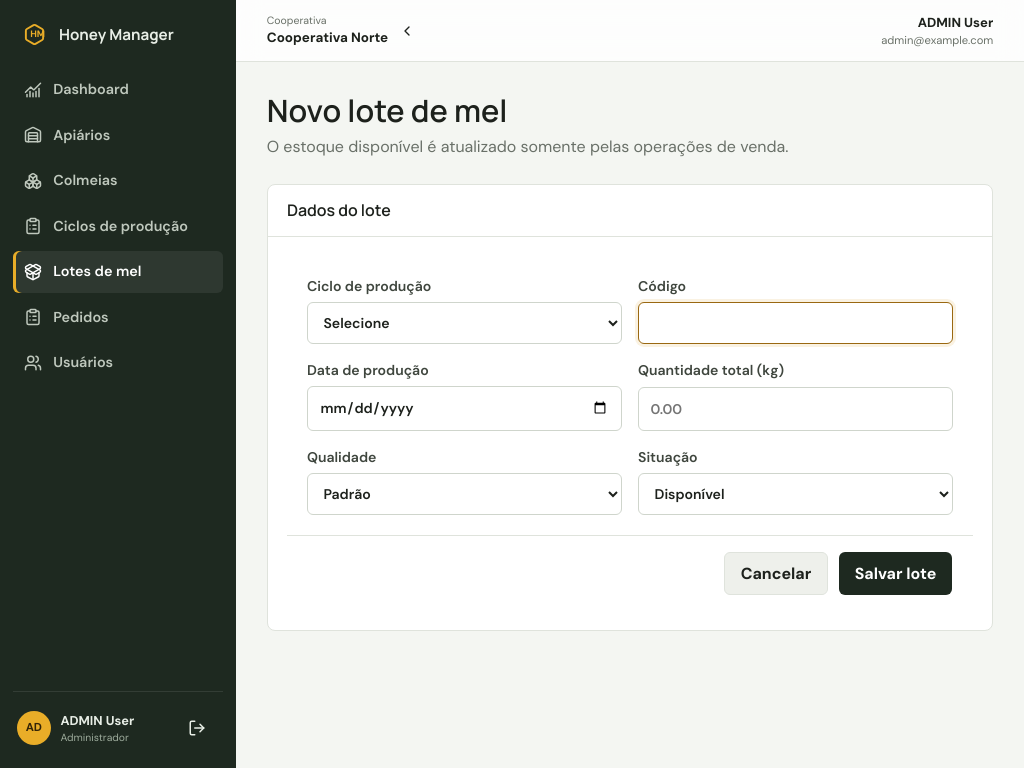
Test: Honey Batch management › presents backend 409 code conflicts visibly
The width and height of the screenshot is (1024, 768).
Select "01/09/2026 · Ativo" in the dropdown labelled "Ciclo de produção" at (464, 323), box [307, 302, 622, 344]
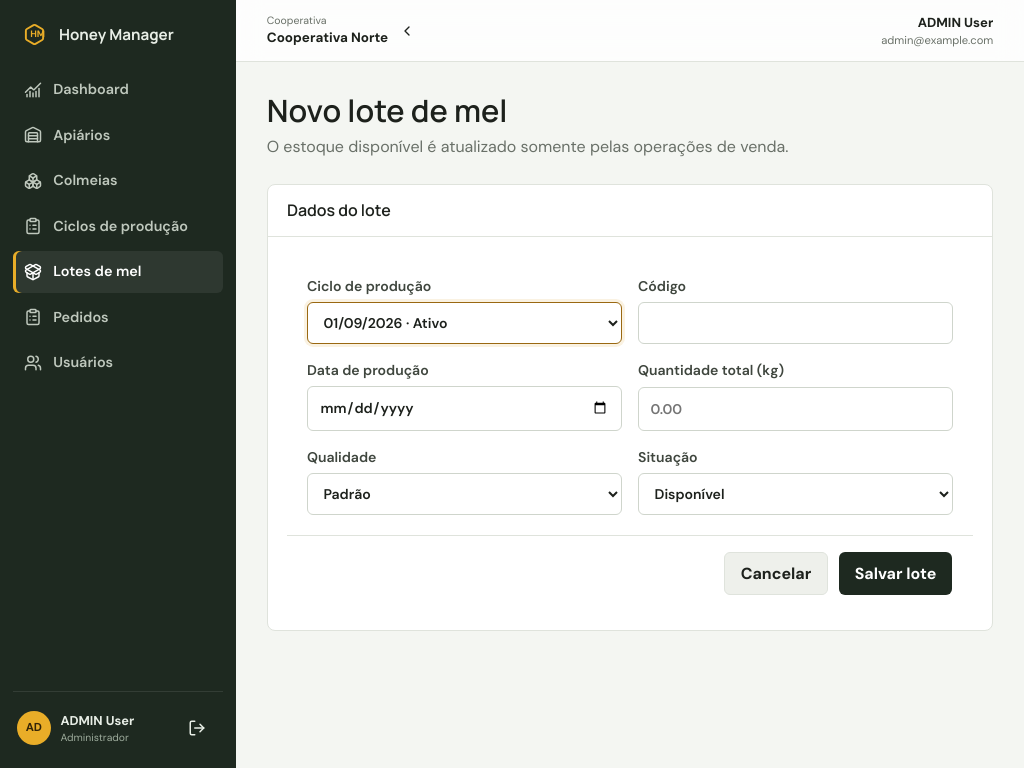
Type "LOTE-001" into the field labelled "Código" at (796, 323), box [638, 302, 953, 344]
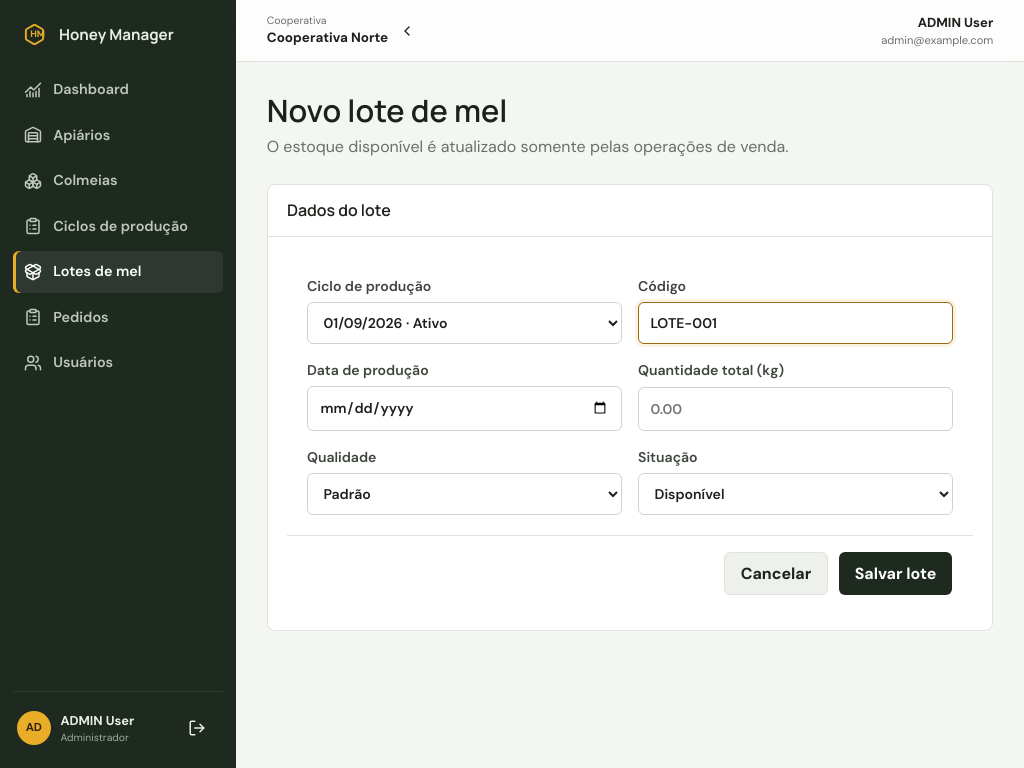
Type "2026-09-02" into the date field labelled "Data de produção" at (464, 408), box [307, 386, 622, 430]
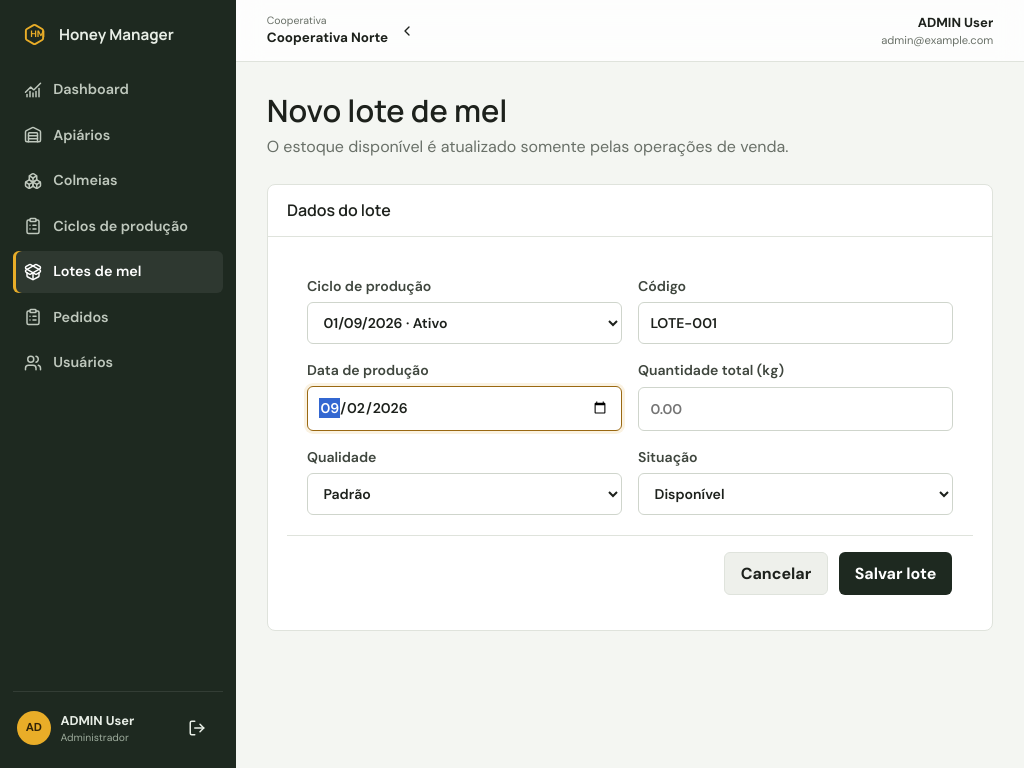
Type "100.50" into the field labelled "Quantidade total (kg)" at (796, 409), box [638, 387, 953, 430]
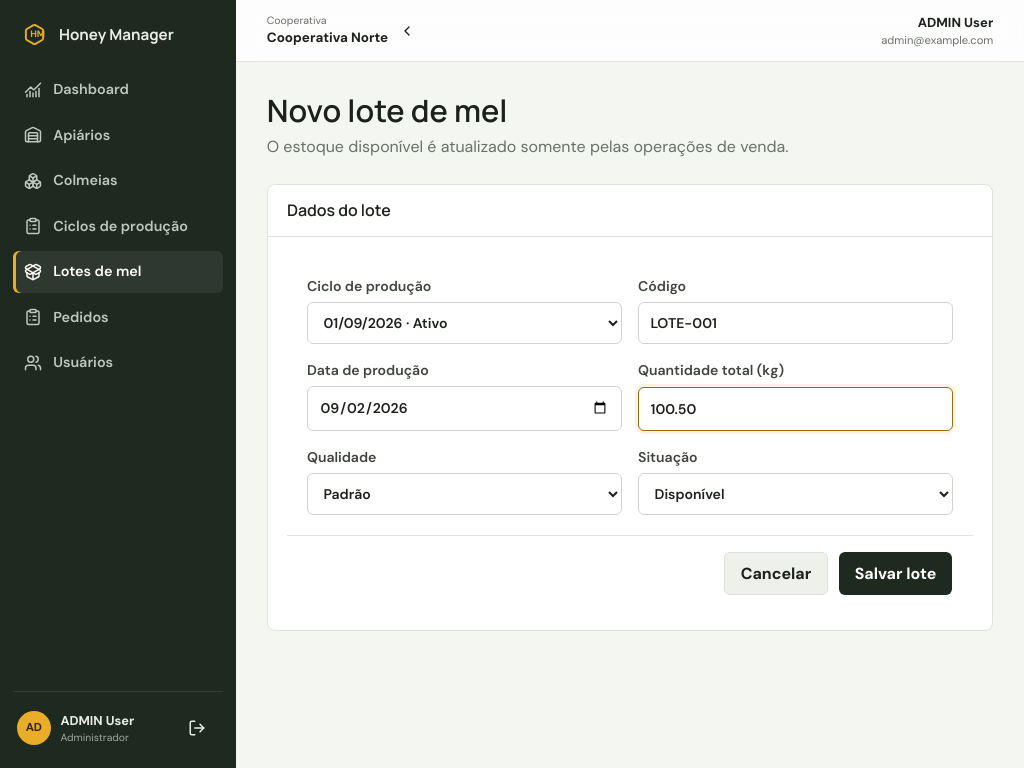
Click the button "Salvar lote" at (896, 573), box [839, 552, 952, 595]
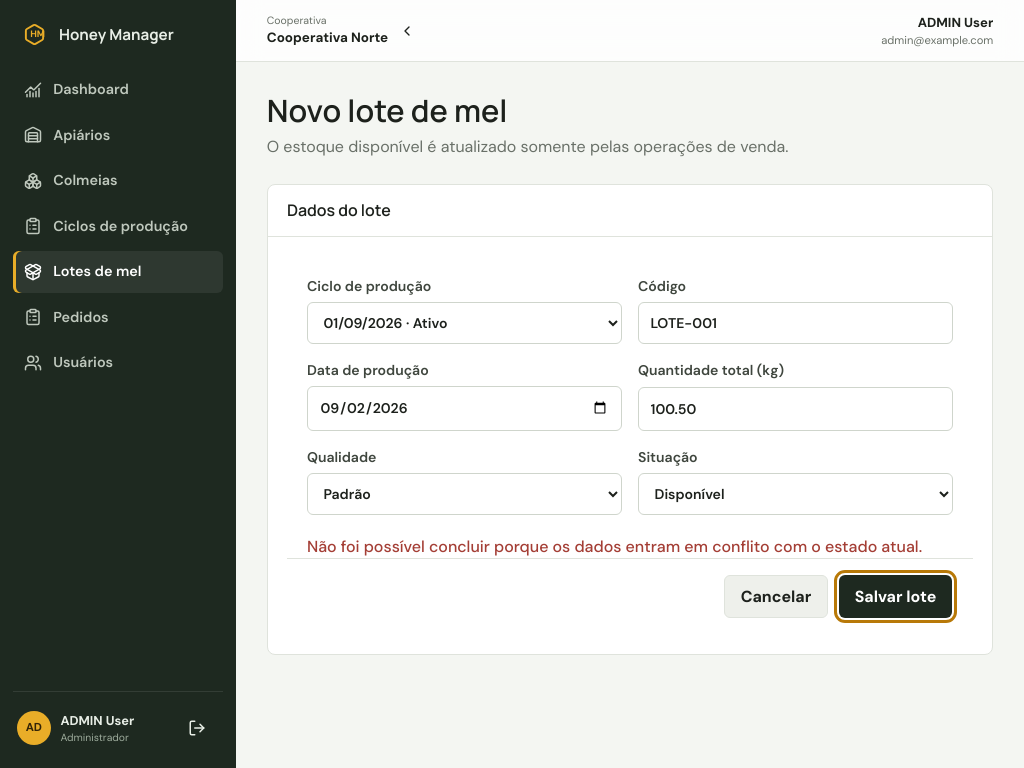
Result: the message reads "Não foi possível concluir porque os dados entram em conflito com o estado atual." at [307, 536, 922, 556]
